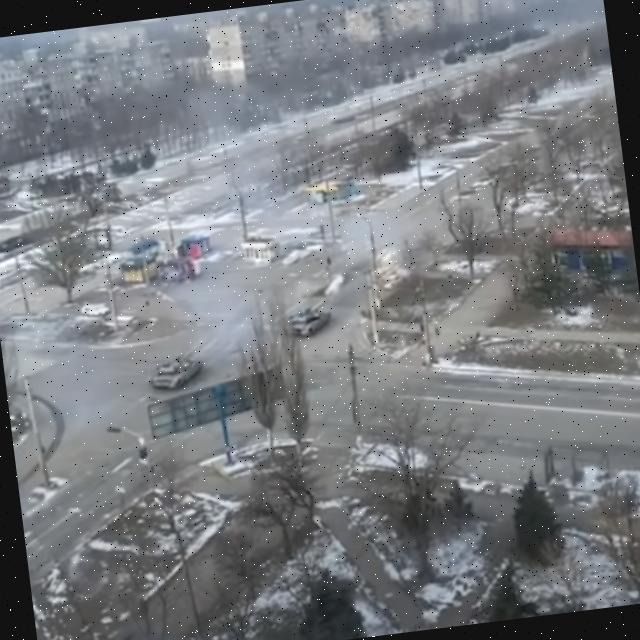MBT: (143, 343, 214, 397), (279, 295, 335, 343)
Vehicle: (79, 300, 110, 325)
